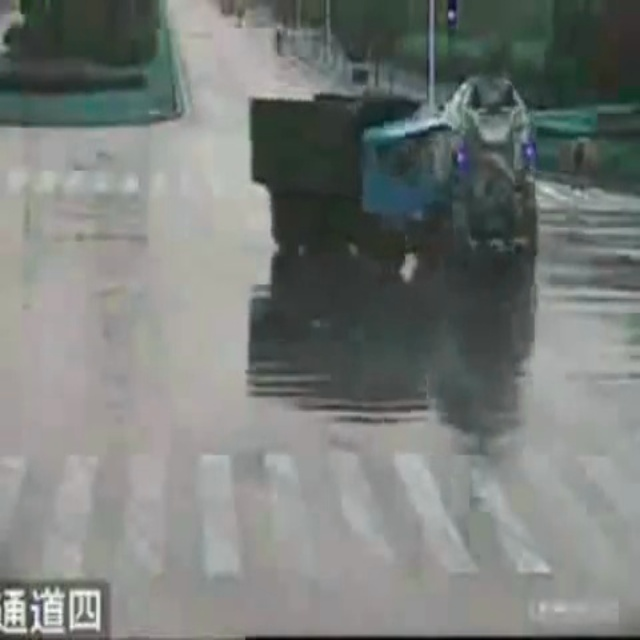acc: (241, 64, 546, 276)
